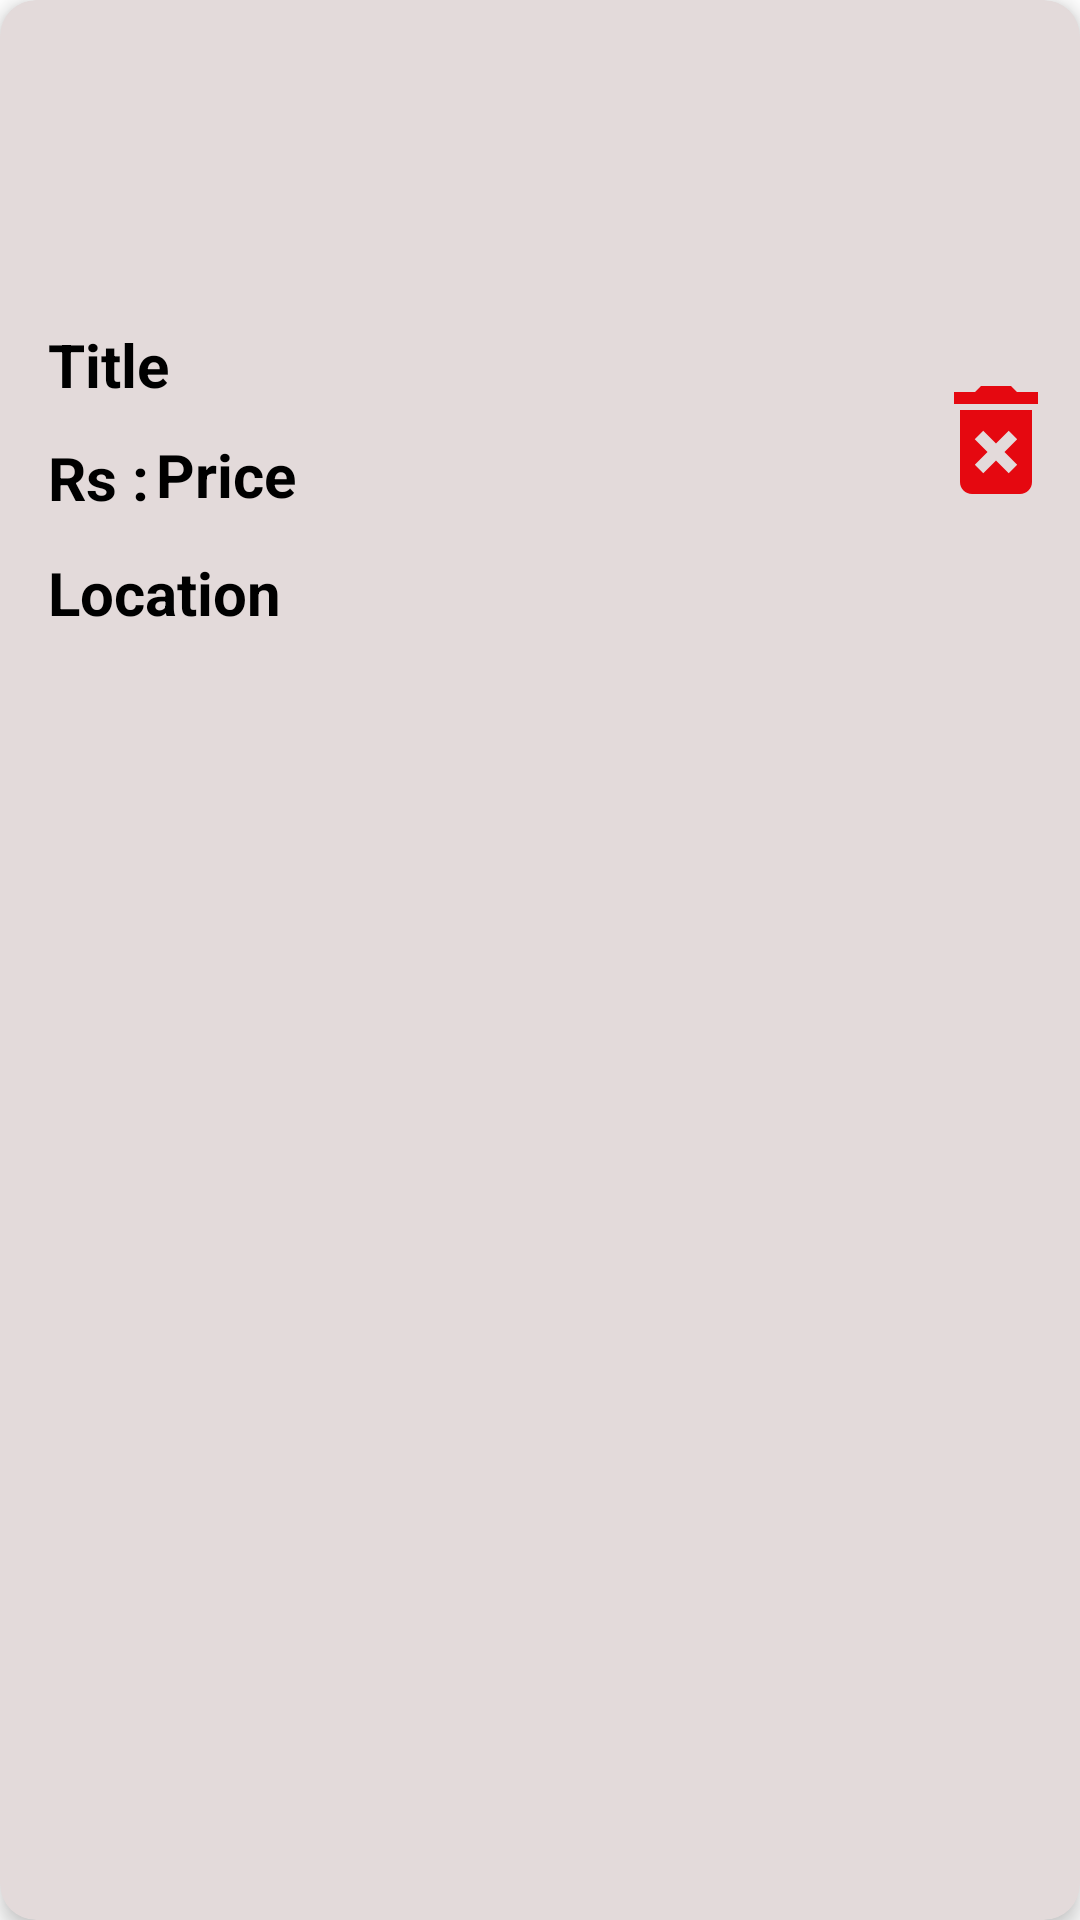

Point at icon controls on the screen. Image size 1080px×1920px, points as [x,y].
delete: [996,440]
